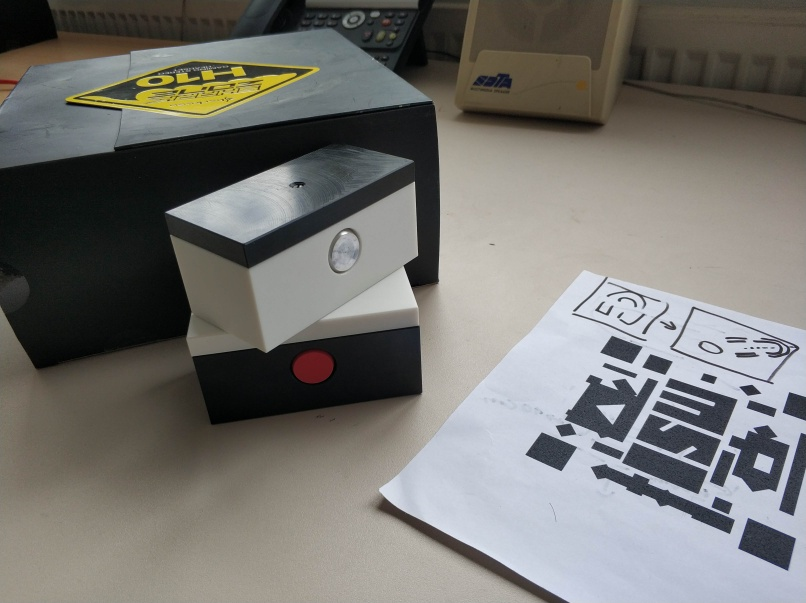black+white+silver: (163, 148, 421, 355)
white+black+red: (184, 264, 424, 430)
